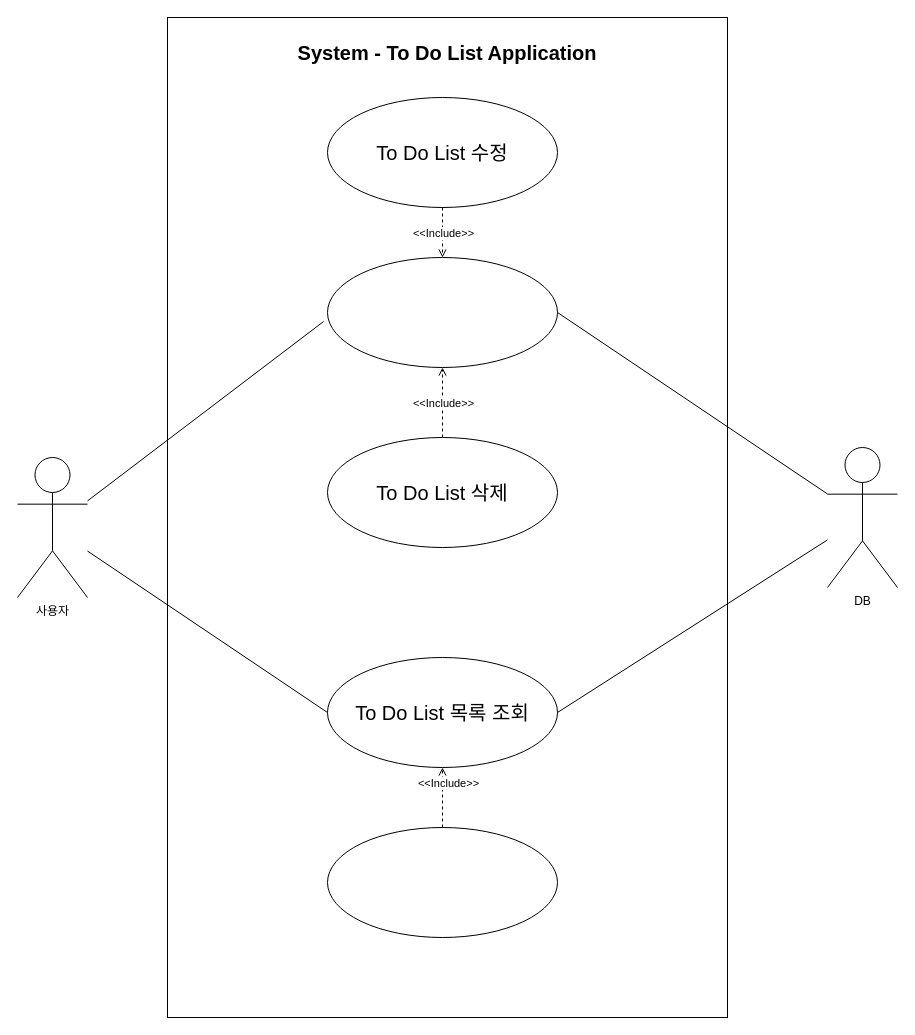
Image size: 915x1035. Some labels were removed from this diagram. The centre of each missing label's shape, as x and y in pixels:
"To Do List 작성" goes at (442,312).
"선택한 To Do List 조회" goes at (442,882).
